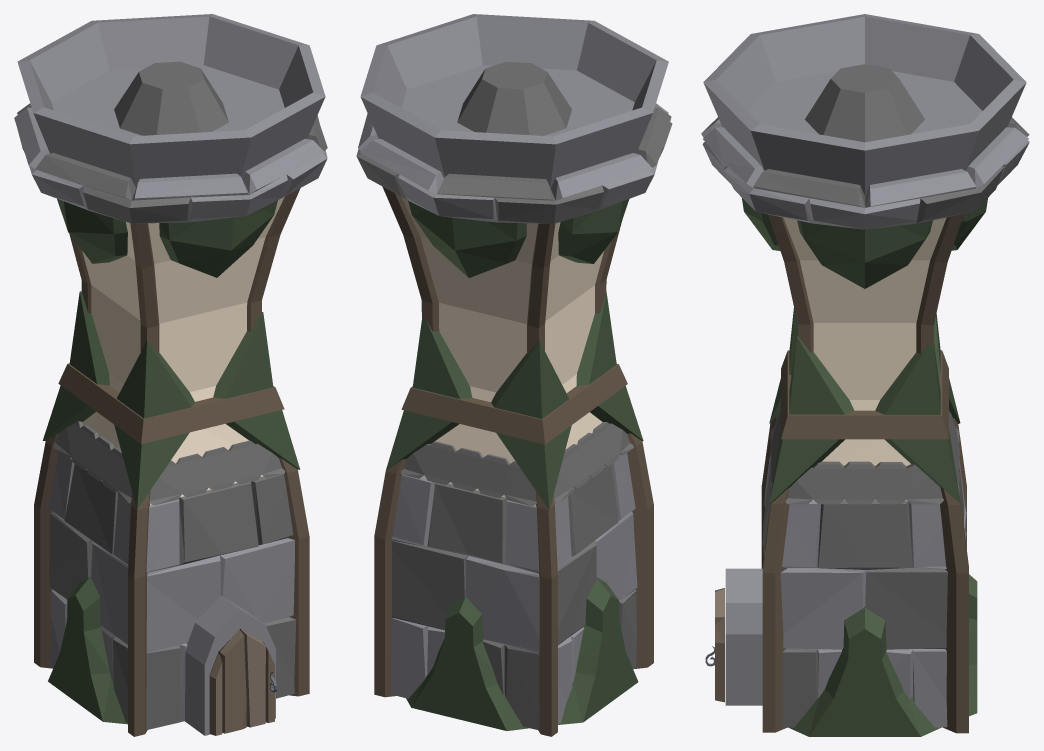
File: Canon_tower_LVL_2_Body.fbx
3 views of the same model, side by side, from view 1: azimuth 30°, elevation 25°; view 2: azimuth 150°, elevation 25°; view 3: azimuth 270°, elevation 25° (orthographic).
Visible parts, largest first — view 1: Cannon_tower_LVL_2; view 2: Cannon_tower_LVL_2; view 3: Cannon_tower_LVL_2.
Part boxes in pixels (x1,y1,x2,y2): Cannon_tower_LVL_2: (14, 14, 327, 736); Cannon_tower_LVL_2: (356, 14, 672, 736); Cannon_tower_LVL_2: (701, 14, 1029, 736).
Size of the model in its own units: 604 by 1235 by 603.
